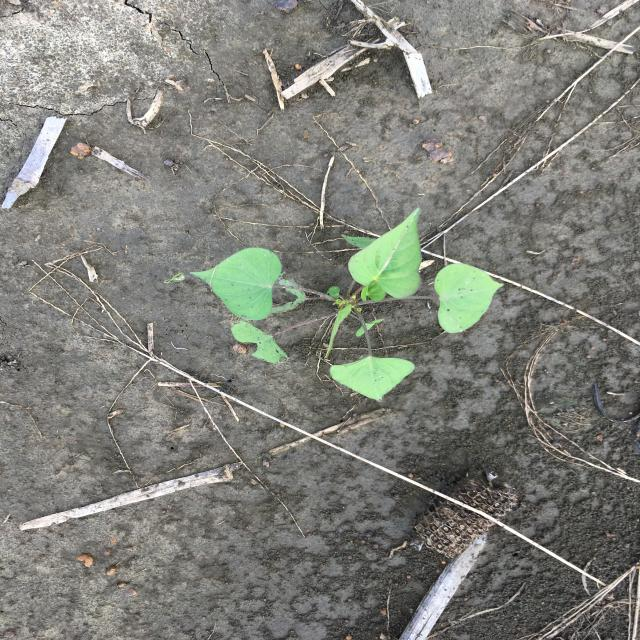MorningGlory: (185, 205, 507, 402)
